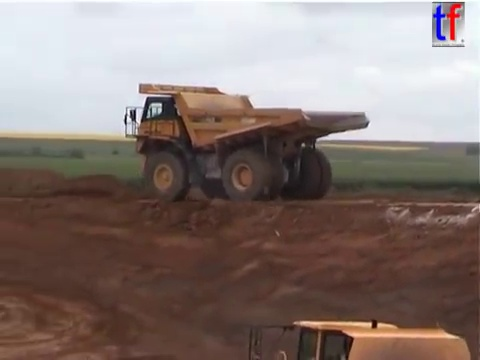truck: (122, 81, 372, 205), (245, 316, 474, 360)
